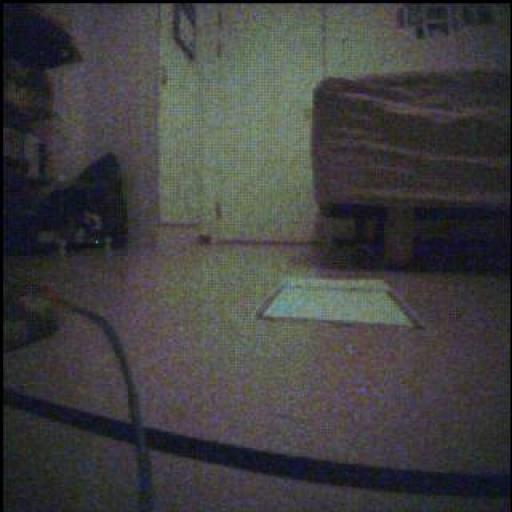pad: (259, 279, 422, 329)
